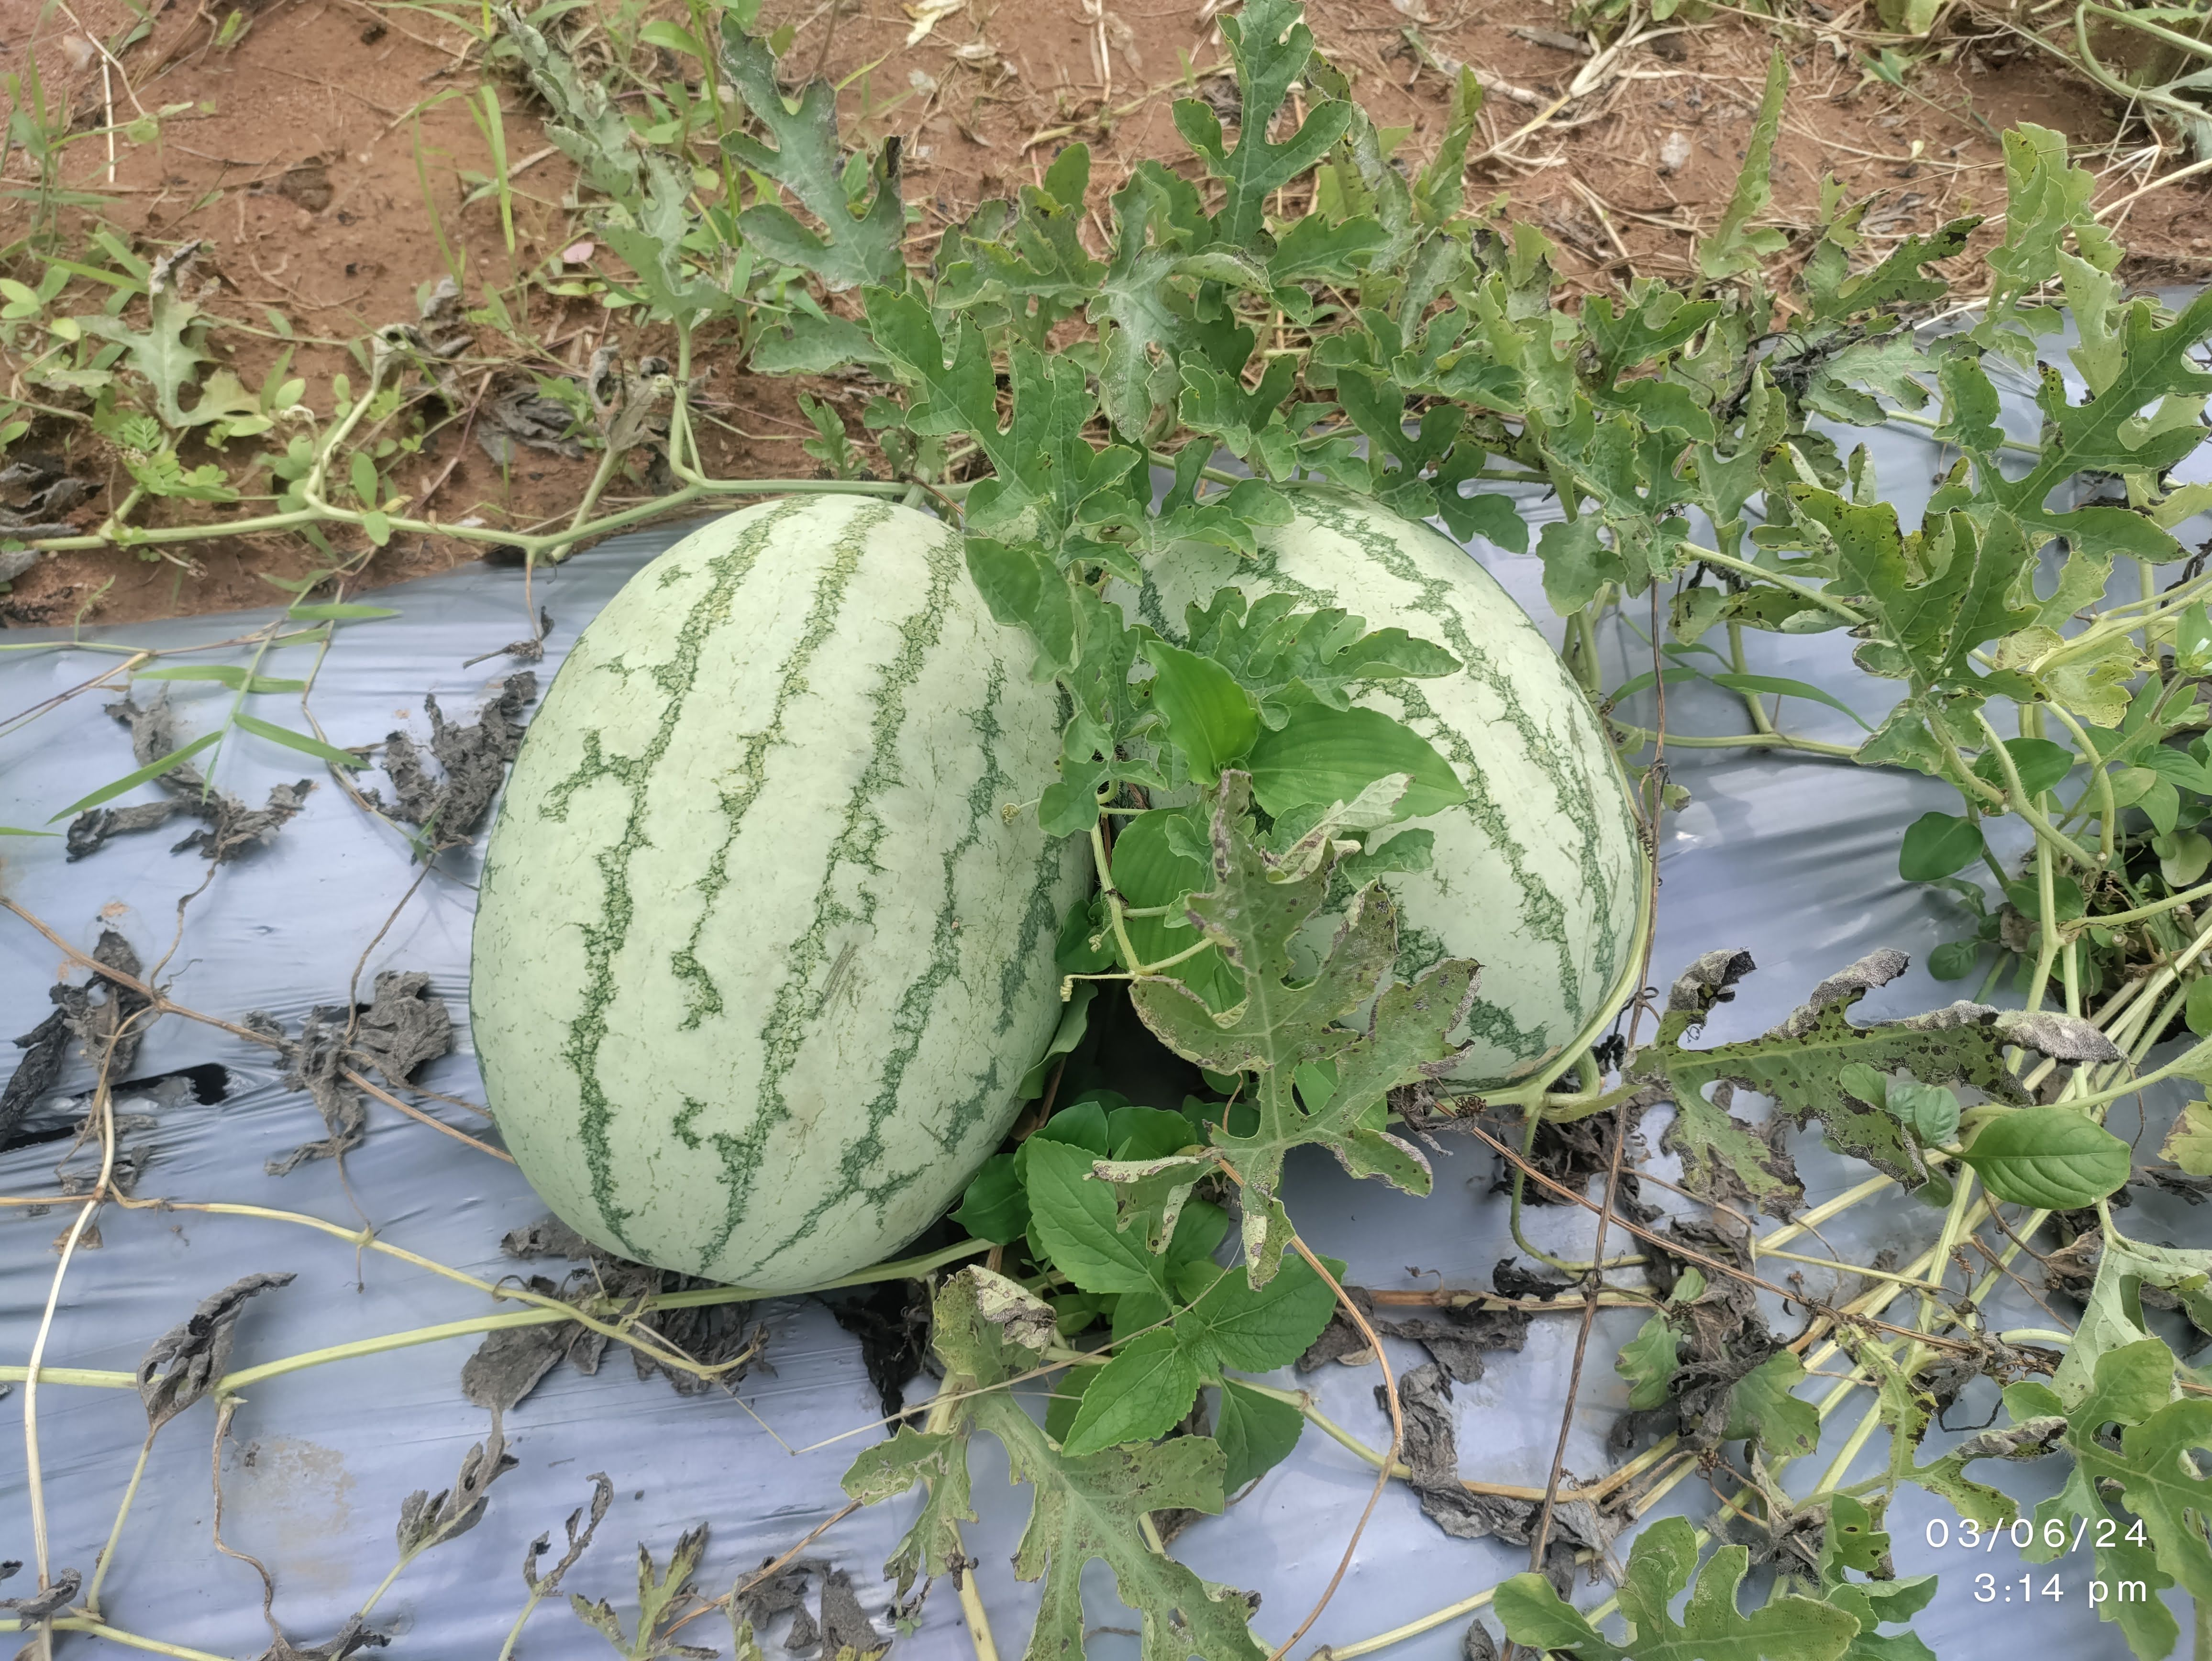good-to-harvest: (471, 426, 1075, 1309), (1104, 440, 1718, 1104)
